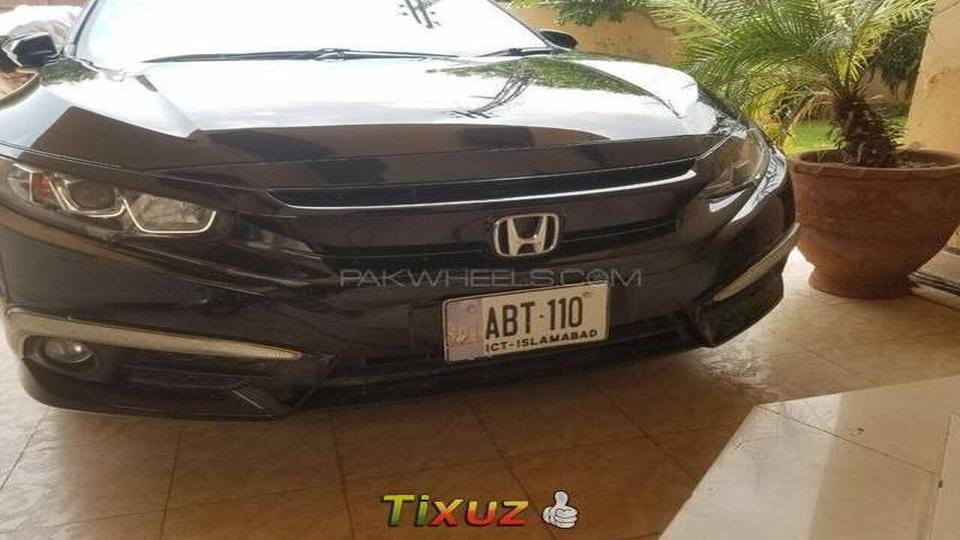NumberPlate: (445, 289, 629, 368)
